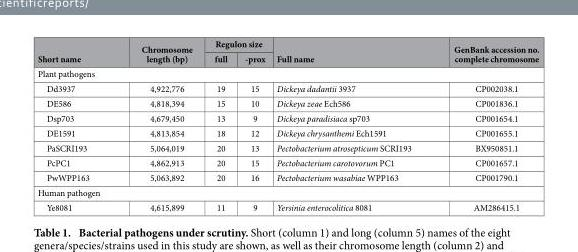table: (36, 37, 538, 213)
table column: (270, 37, 432, 213), (432, 37, 538, 213), (114, 37, 202, 213), (36, 37, 114, 213), (235, 37, 270, 213), (202, 37, 235, 213)
table column header: (36, 37, 538, 65)
table projected row header: (36, 65, 538, 80), (36, 184, 538, 199)
table row: (36, 50, 538, 65), (36, 65, 538, 80), (36, 80, 538, 95), (36, 95, 538, 110), (36, 110, 538, 125), (36, 125, 538, 140), (36, 154, 538, 169), (36, 169, 538, 184), (36, 184, 538, 199), (36, 140, 538, 154), (36, 199, 538, 213), (36, 37, 538, 50)
table spanning cell: (270, 37, 432, 65), (432, 37, 538, 65), (114, 37, 202, 65), (36, 37, 114, 65), (202, 37, 270, 50)
